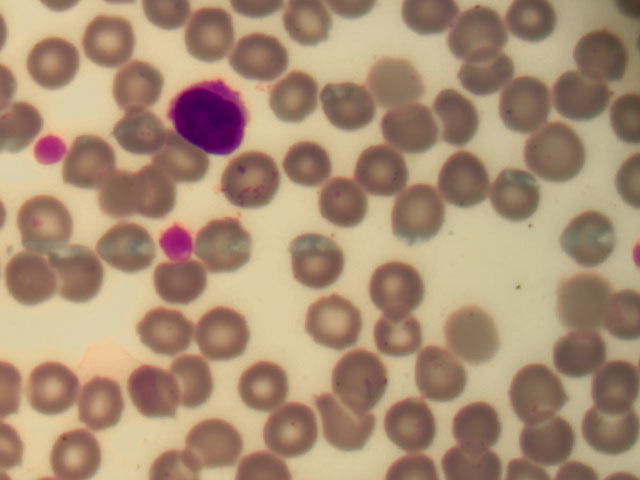Platelets: (159, 221, 192, 262), (30, 134, 66, 167)
RBC: (26, 36, 82, 92), (81, 12, 137, 68), (112, 52, 168, 108), (115, 96, 171, 152), (68, 127, 124, 183), (91, 166, 147, 222), (125, 161, 181, 217), (151, 140, 207, 196), (223, 151, 279, 207), (268, 141, 324, 197), (270, 76, 326, 132), (236, 27, 292, 83), (186, 9, 242, 65), (321, 80, 377, 136), (320, 171, 376, 227), (353, 142, 409, 198), (382, 98, 438, 154), (418, 86, 474, 142), (383, 57, 439, 113), (449, 46, 505, 102), (454, 1, 510, 57), (496, 67, 552, 123), (527, 126, 583, 182), (488, 165, 544, 221), (439, 150, 495, 206), (400, 193, 456, 249), (548, 70, 604, 126), (572, 31, 628, 87), (510, 2, 566, 58), (564, 214, 620, 270), (562, 268, 618, 324), (552, 322, 608, 378), (584, 345, 640, 401), (584, 407, 640, 463), (505, 358, 561, 414), (527, 413, 583, 469), (450, 400, 506, 456), (410, 346, 466, 402), (449, 304, 505, 360), (369, 306, 425, 362), (371, 263, 427, 319), (306, 294, 362, 350), (288, 233, 344, 289), (339, 354, 395, 410), (383, 403, 439, 459), (320, 395, 376, 451), (269, 400, 325, 456), (235, 359, 291, 415), (197, 306, 253, 362), (141, 302, 197, 358), (152, 256, 208, 312), (198, 217, 254, 273), (103, 220, 159, 276), (57, 245, 113, 301), (7, 251, 63, 307), (25, 197, 81, 253), (128, 367, 184, 423), (168, 351, 224, 407), (184, 412, 240, 468), (76, 374, 132, 430), (27, 359, 83, 415), (59, 424, 115, 480)
WBC: (171, 71, 261, 157)
